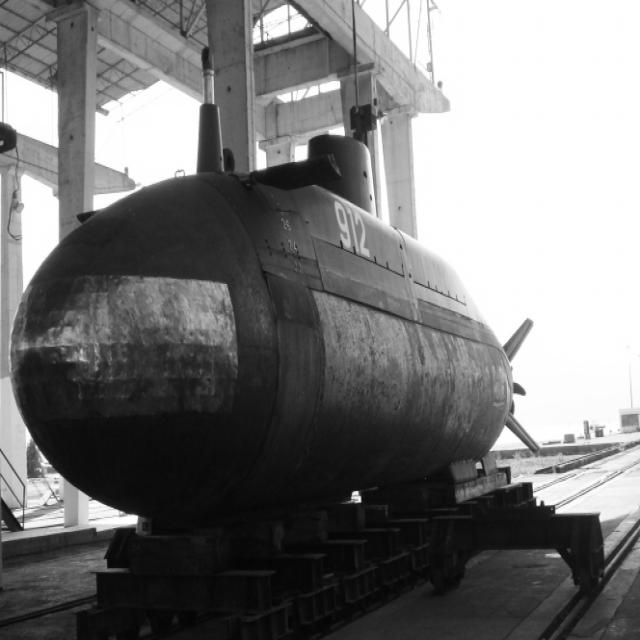submarine: (1, 60, 549, 543)
